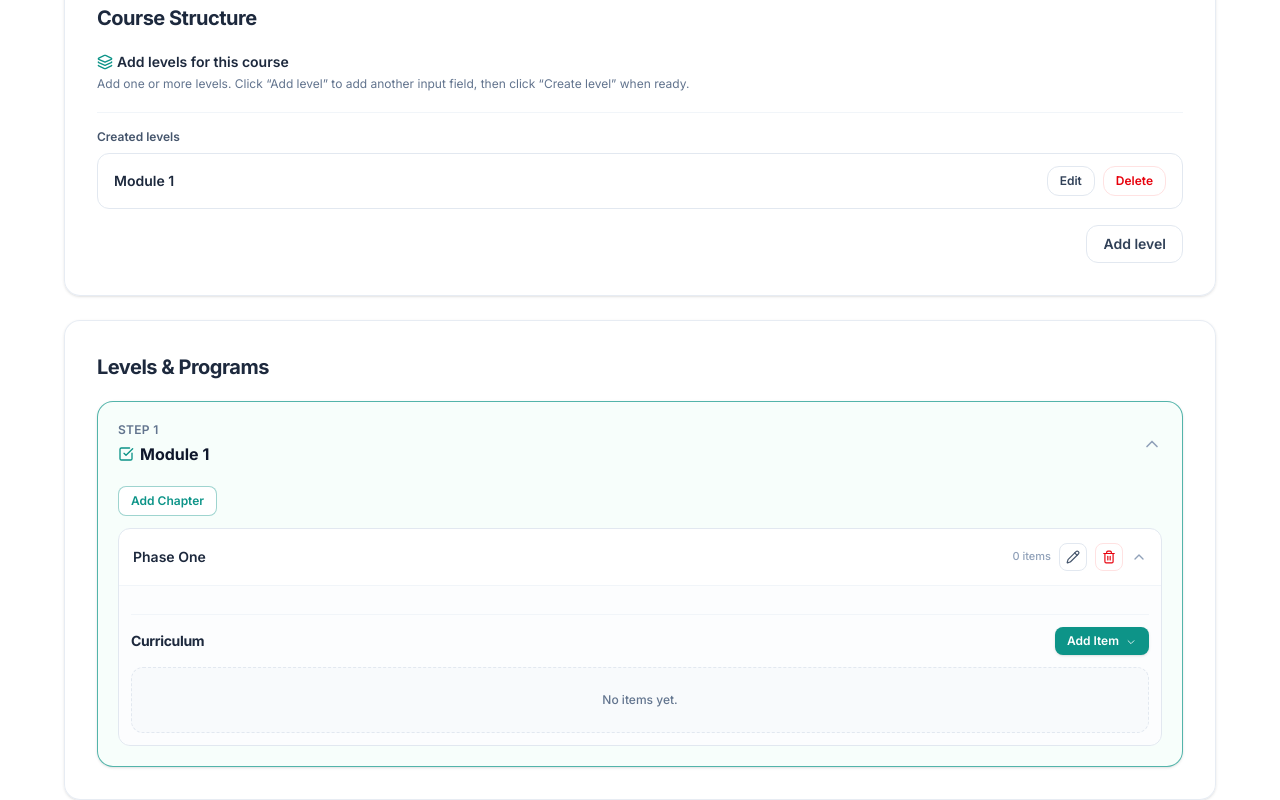
Test case: CourseBuilder Advanced Interactions › handles edit node error mapping safely
(page scrolled)
Expected: the text "Phase One" is shown, x1=133 y1=546 x2=206 y2=566
Note: If there are multiple Edit buttons, we might need to specify
Click the button named "Edit phase": (1073, 556) x1=1059 y1=542 x2=1087 y2=570
(page scrolled)
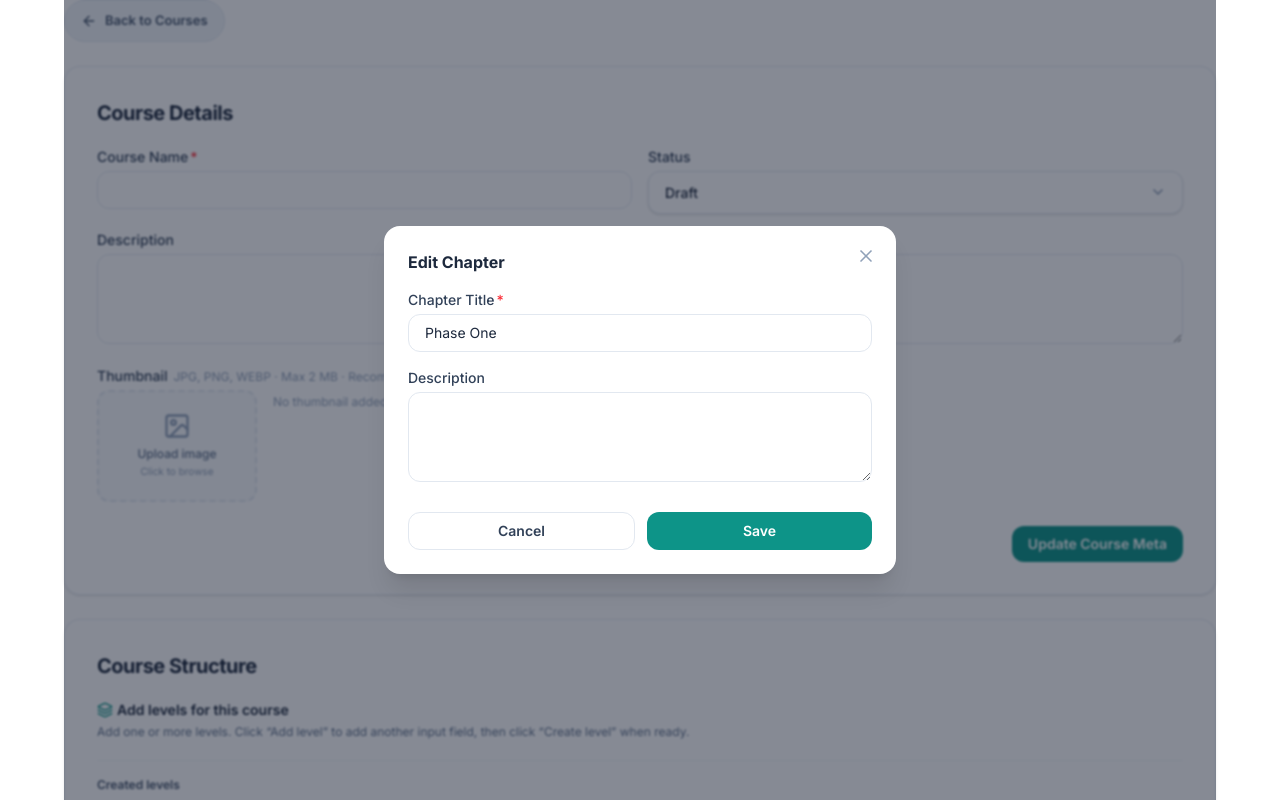
Result: the heading "Edit Chapter" is shown at x1=408 y1=252 x2=505 y2=272
Result: the field showing "Phase One" is shown at x1=408 y1=314 x2=872 y2=352
